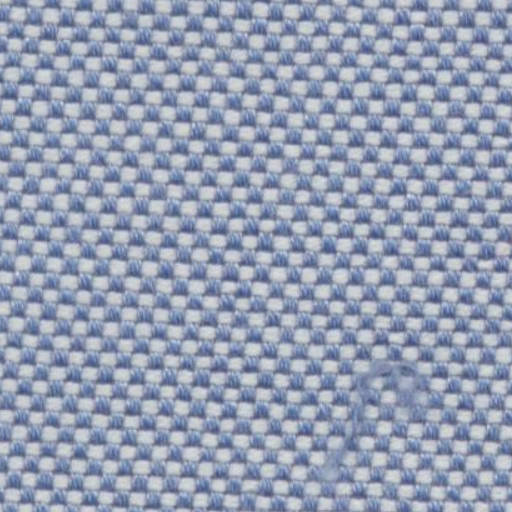DuanSha: (300, 327, 448, 490)
